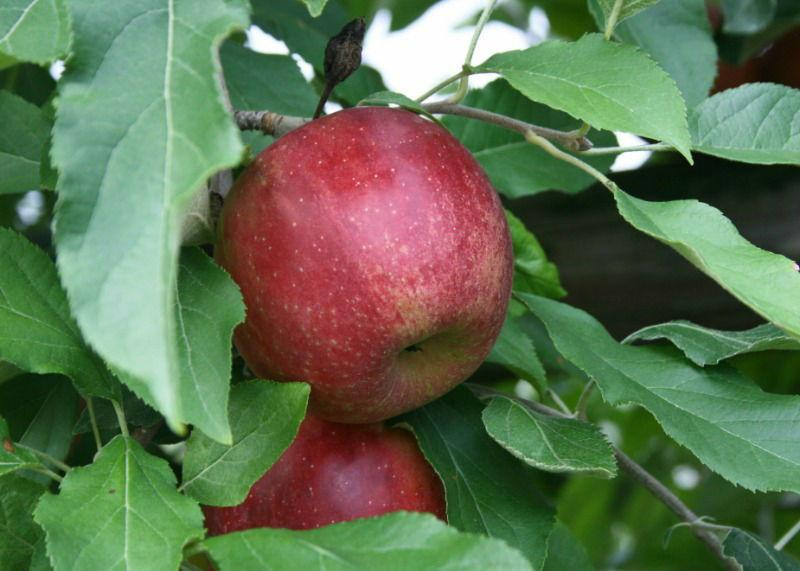Apple leaf: (44, 2, 250, 446), (464, 28, 709, 166), (607, 171, 800, 333), (33, 433, 223, 571), (480, 381, 625, 496), (679, 81, 800, 169)
